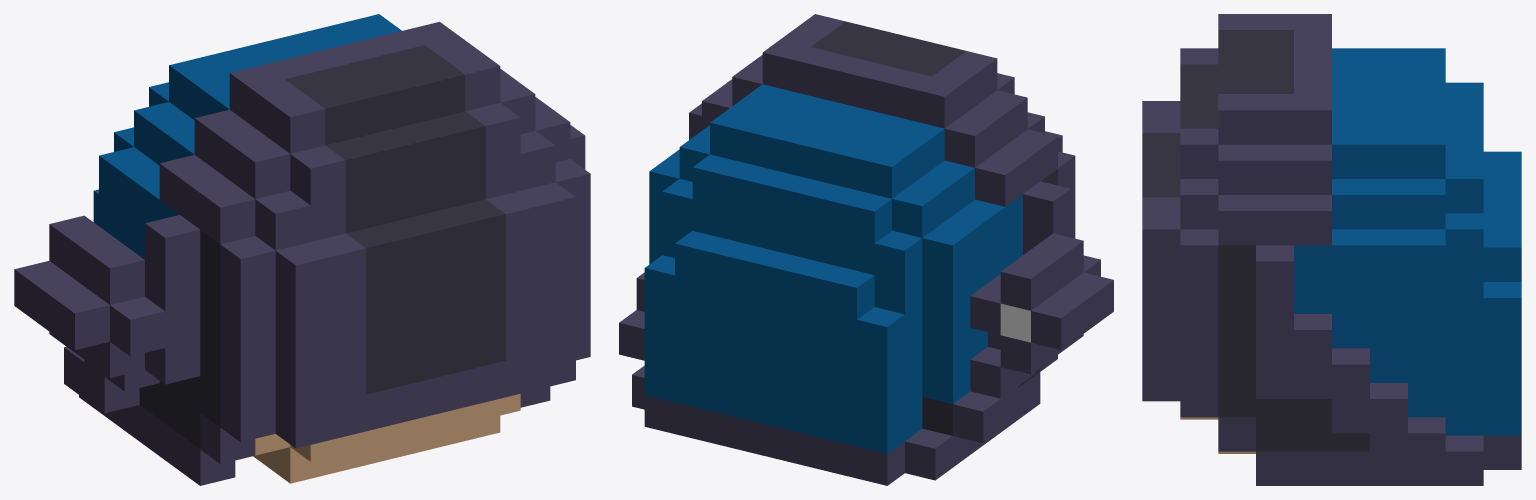
The model's file is Soldier_Export-0 1.obj.
3 views of the same model, side by side, from view 1: azimuth 30°, elevation 25°; view 2: azimuth 150°, elevation 25°; view 3: azimuth 270°, elevation 25° (orthographic). The views are drawn at different scales.
Size of the model in its own units: 1.4 by 1 by 1.
Materials: 1 (1 with a texture image).
